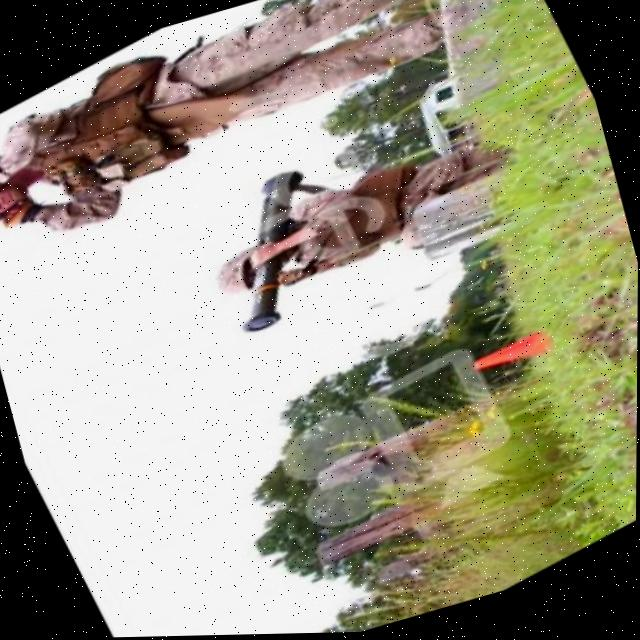rocket: (183, 156, 366, 342)
